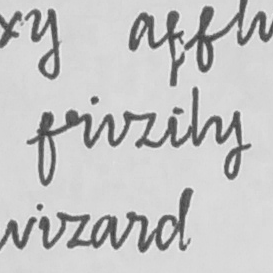f: (33, 107, 59, 189)
i: (98, 98, 120, 151), (164, 104, 186, 149)
l: (187, 84, 210, 148)
r: (62, 108, 94, 151)
y: (212, 108, 245, 181)
z: (122, 109, 160, 150)
